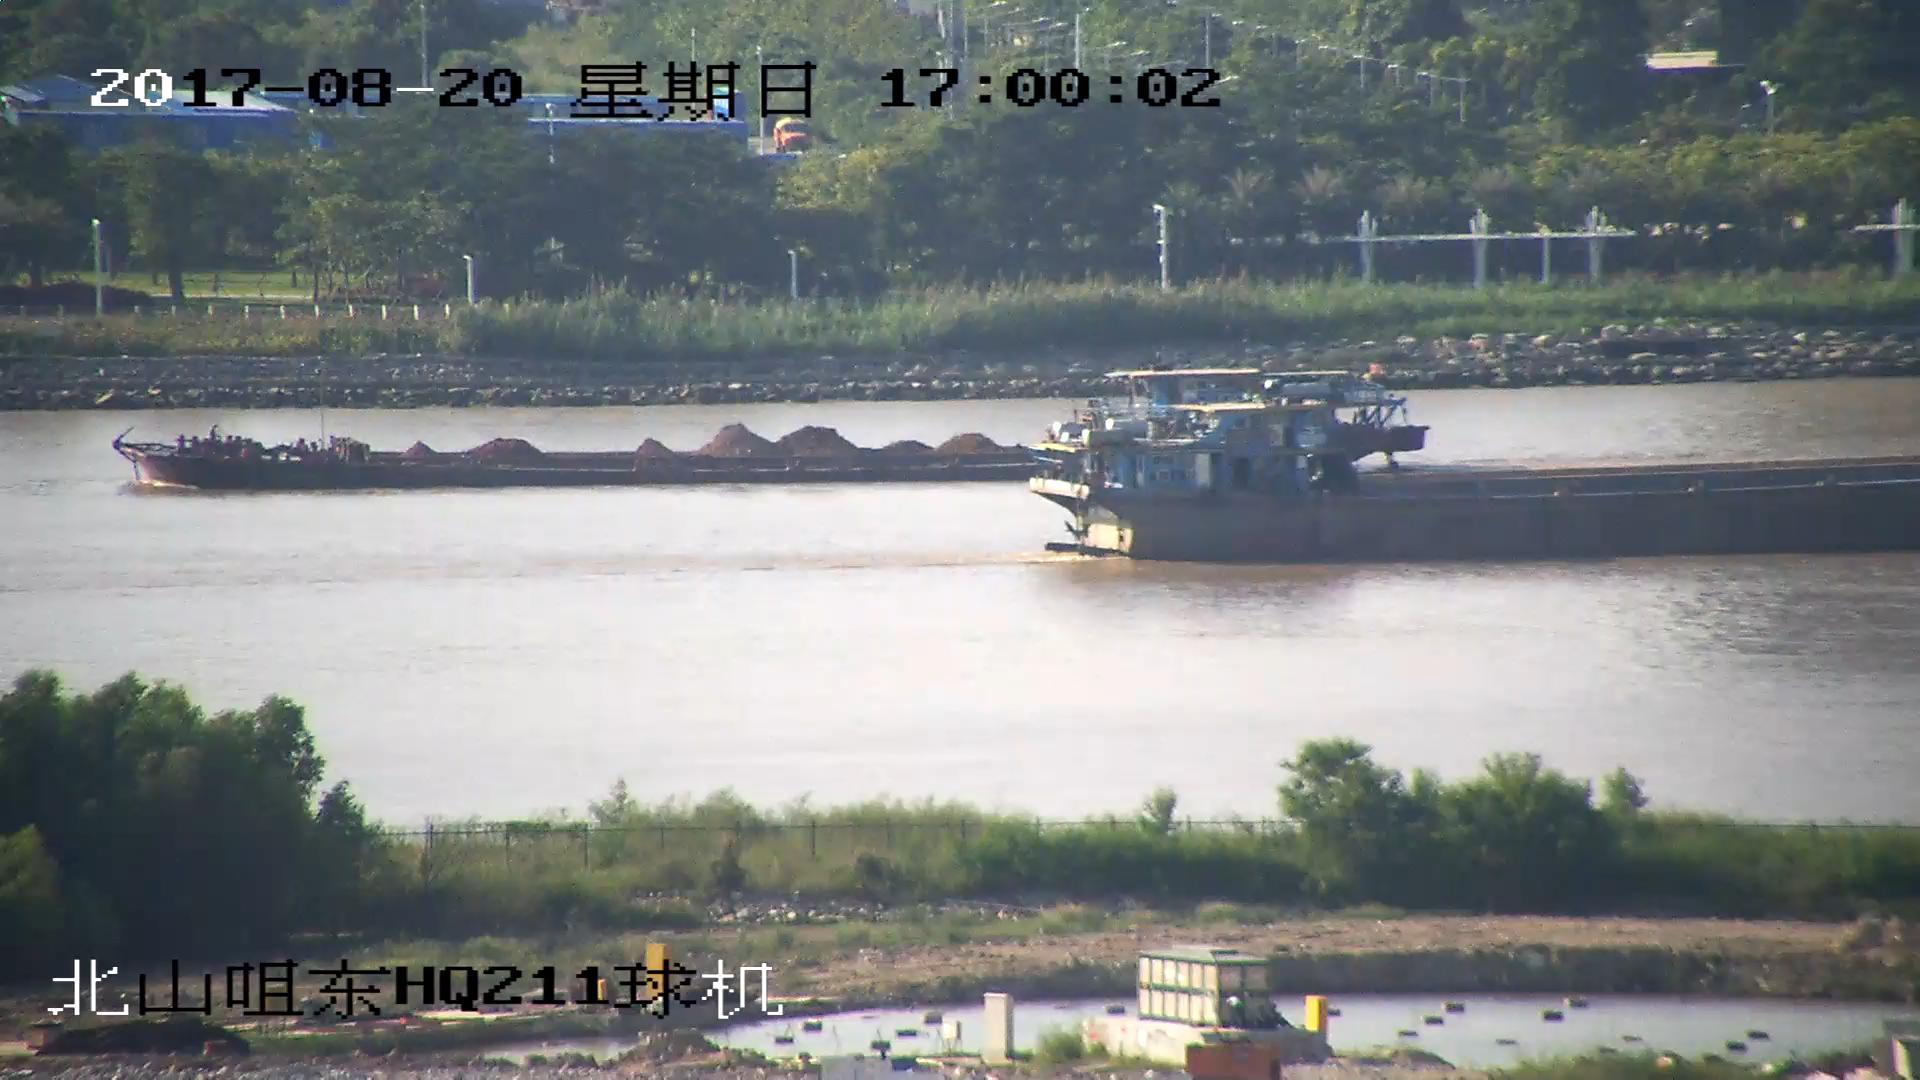Ship: (123, 357, 1432, 496), (1026, 404, 1920, 570)
